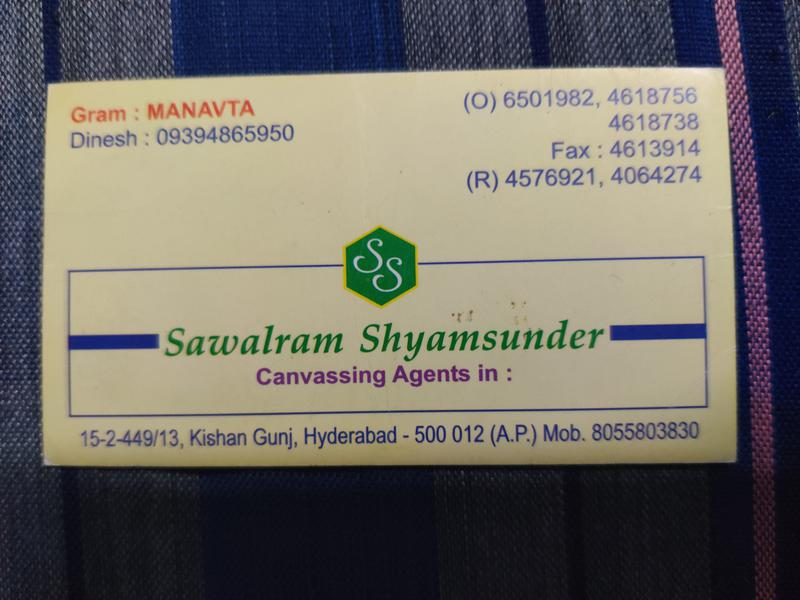card: (42, 68, 736, 465)
